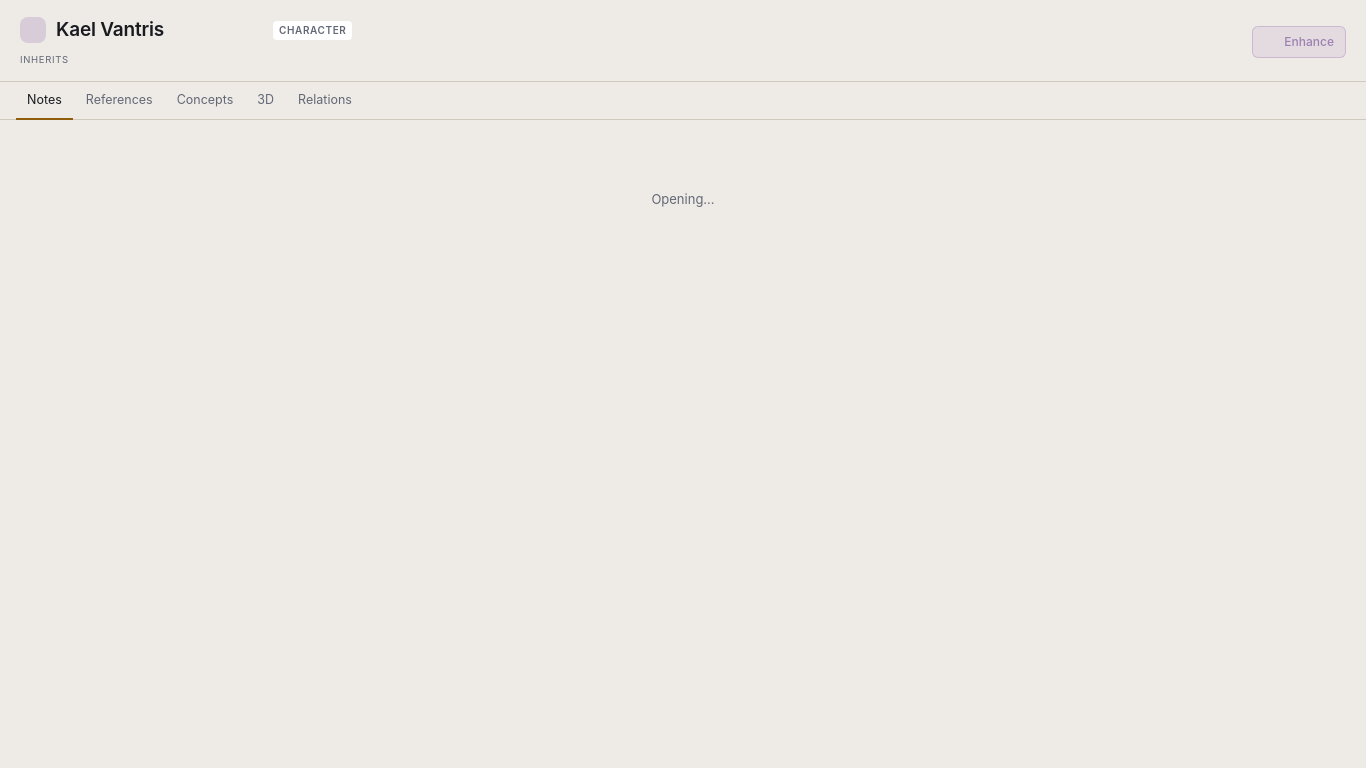
the editor influence breadcrumb › does not ask for mesh metadata until the 3D tab is opened
Expected: the field showing "Kael Vantris" is shown, top-left (49, 14), bottom-right (264, 46)
Click the button "3D".
click(266, 101)  # box top-left (246, 82), bottom-right (285, 120)
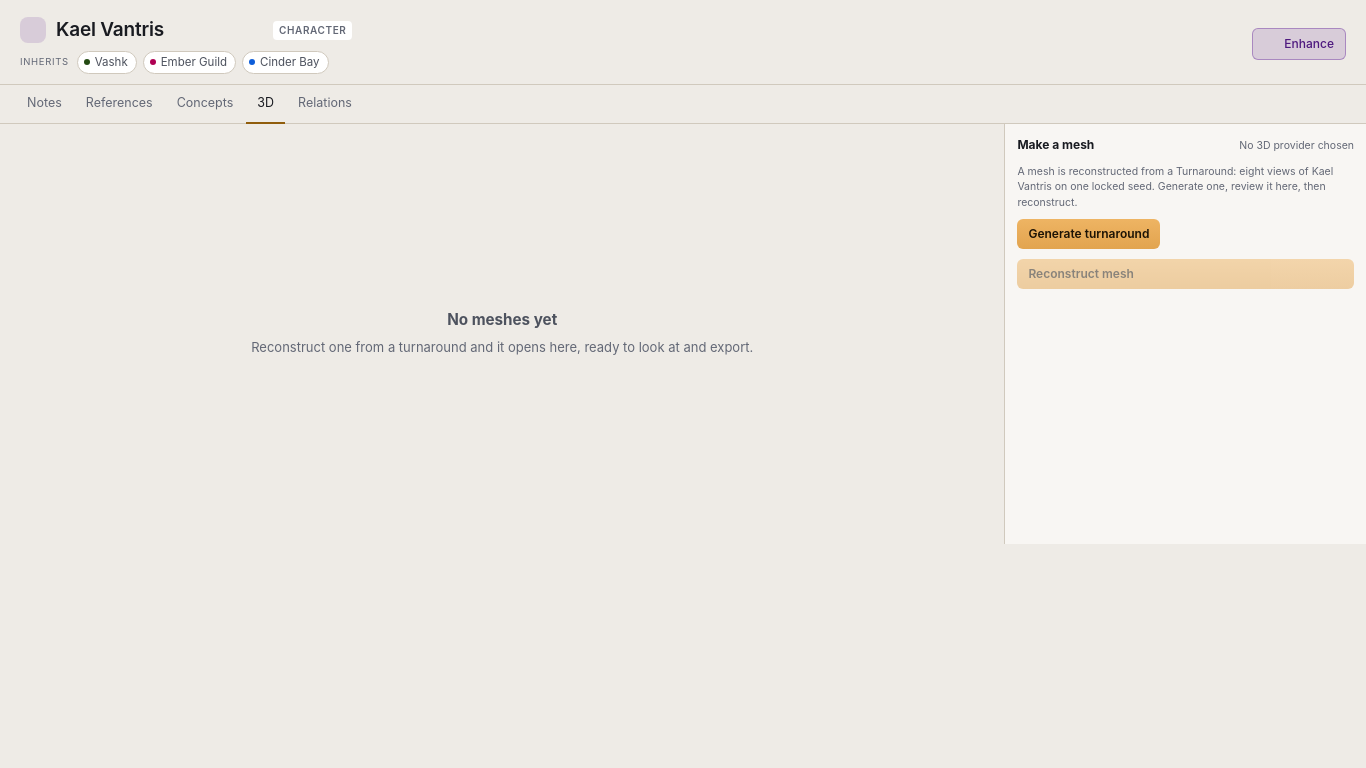
Expected: the heading "No meshes yet" is shown, top-left (447, 310), bottom-right (557, 329)
